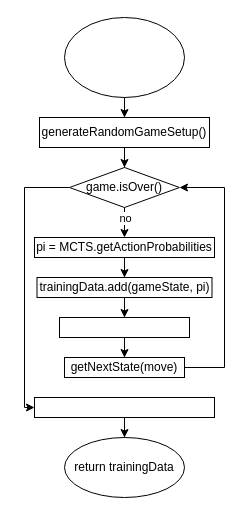
Image size: 250x515. Some labels were removed from this diagram. The shapes that lost their labels are listed below. From the top down, each one's centre as x and y in pixels, then its label:
point (124, 57): start
point (124, 327): move = randomMove()
point (124, 407): trainingData.add(gameOutcome)
